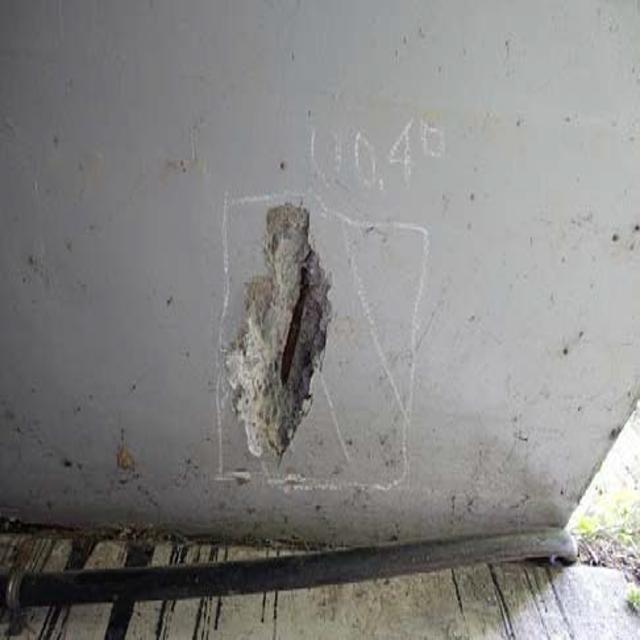spalling: (199, 188, 350, 462)
